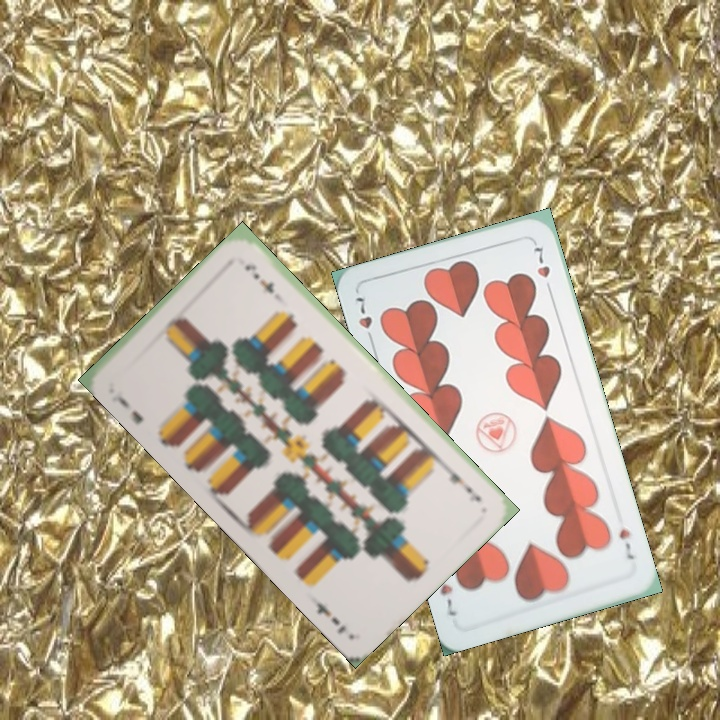E7: (440, 461, 484, 505), (109, 391, 146, 427)
H7: (351, 291, 377, 348), (615, 524, 637, 562)
